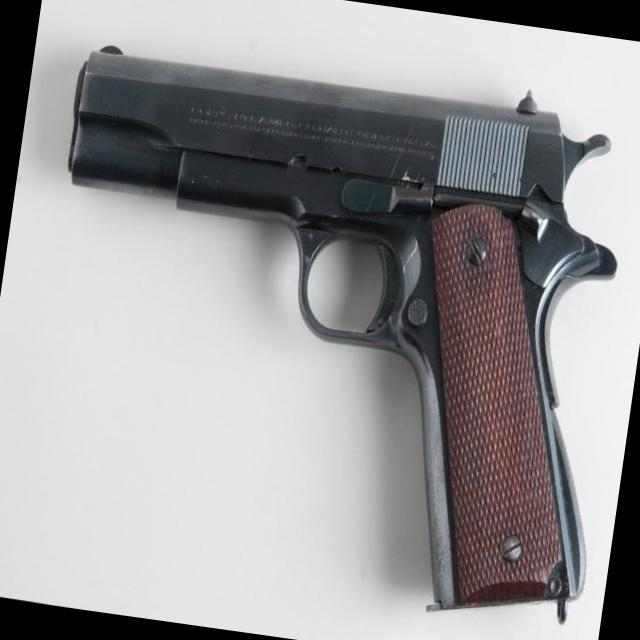Gun: (69, 49, 616, 609)
